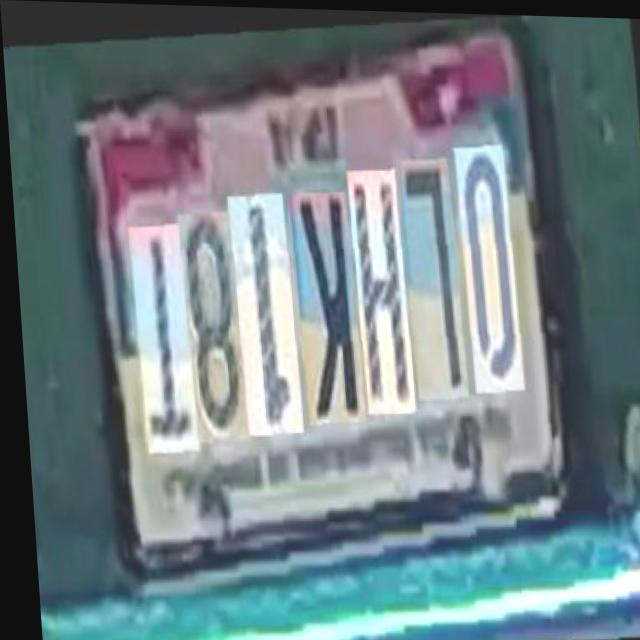0: (459, 158, 524, 405)
1: (230, 196, 301, 439)
8: (178, 212, 247, 443)
h: (350, 178, 415, 423)
k: (292, 197, 364, 430)
l: (402, 168, 468, 411)
t: (129, 222, 196, 452)
